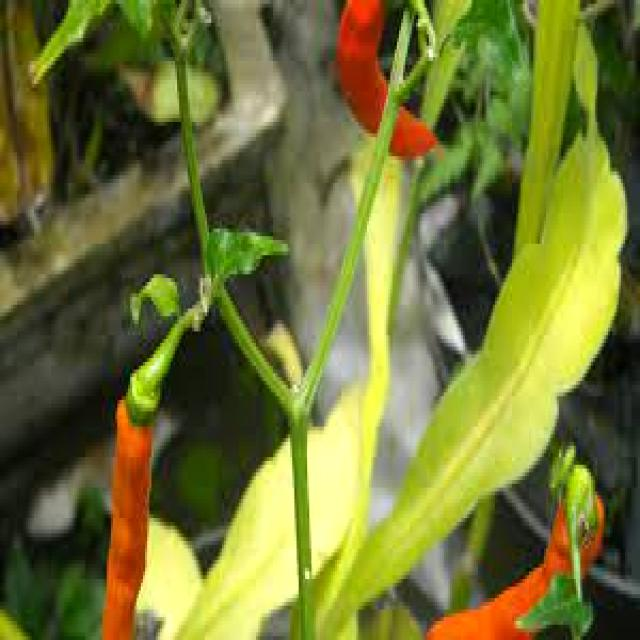yellowish leaf: (312, 114, 626, 617), (153, 152, 418, 638)
